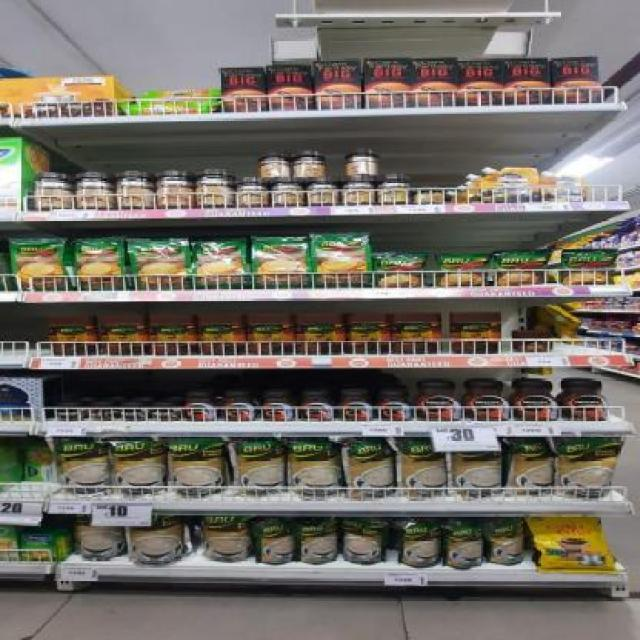Coffee: (563, 381, 611, 420), (513, 382, 560, 421), (463, 382, 511, 420), (417, 381, 461, 422), (339, 392, 375, 421), (379, 392, 413, 421), (221, 393, 255, 422), (301, 393, 334, 422), (262, 392, 296, 420), (185, 393, 216, 422), (52, 404, 84, 421), (119, 404, 148, 422), (150, 404, 179, 422), (87, 404, 116, 421)
